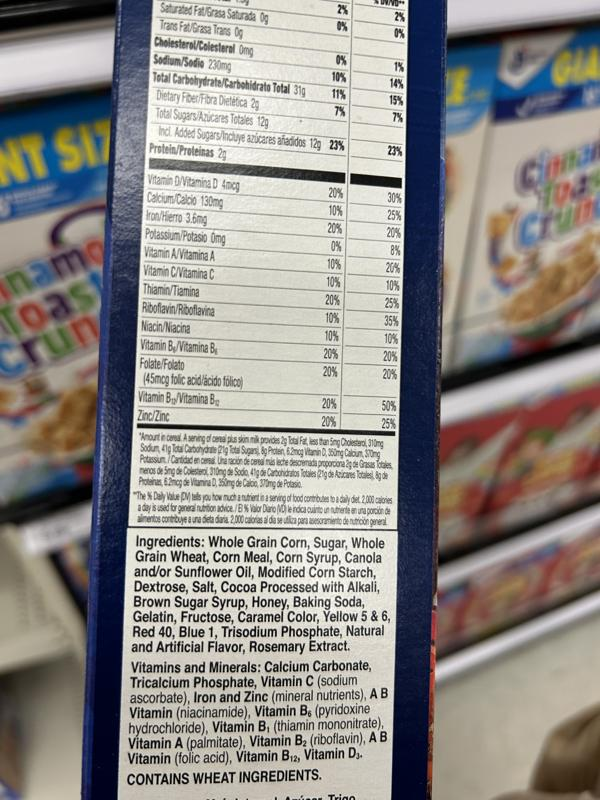ingredients: (130, 533, 391, 655)
